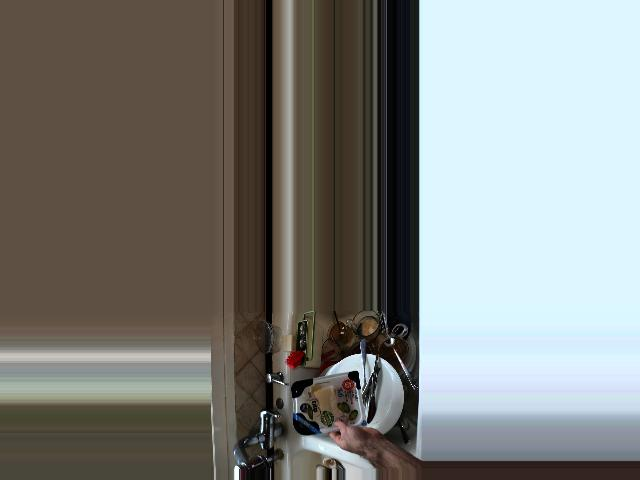cheese: (286, 373, 377, 453)
